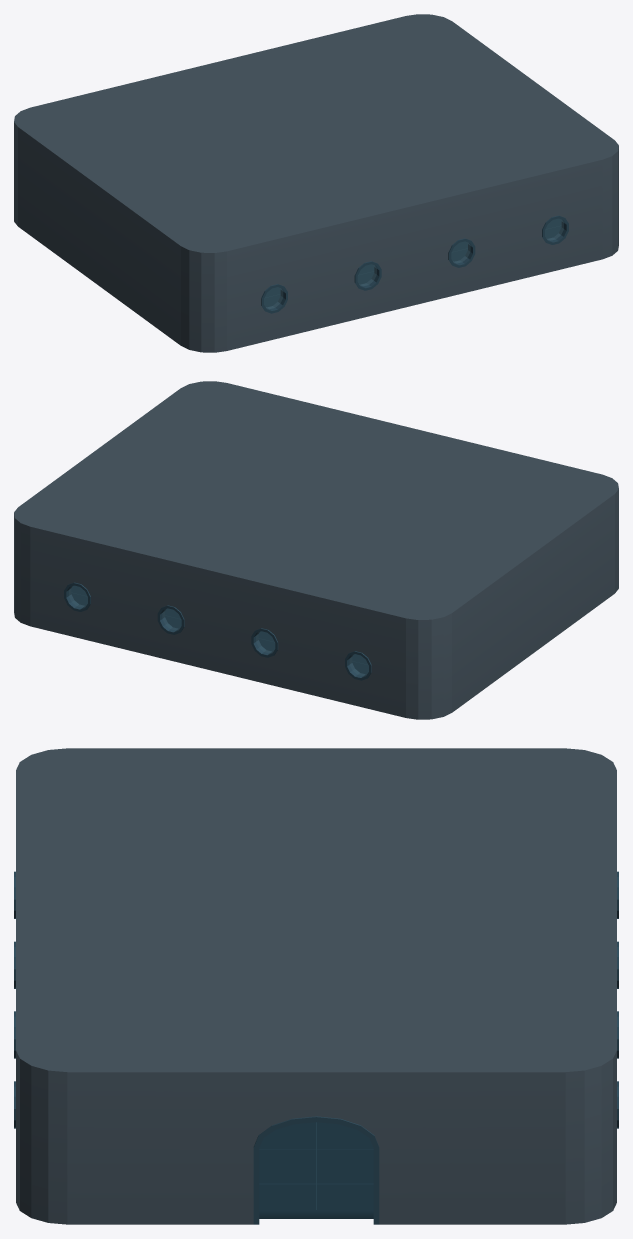
Rendered from sala_treinamento.glb.
The picture shows the model from 3 angles, top to bottom: view 1: azimuth 30°, elevation 25°; view 2: azimuth 150°, elevation 25°; view 3: azimuth 270°, elevation 25°; orthographic projection. The views are drawn at different scales.
Visible parts, largest first — view 1: casco, paredes; view 2: casco, paredes; view 3: casco, paredes.
Boxes of the visible parts, x1,y1,x2,y2 form: casco: (14,14,618,352); paredes: (261,215,568,313); casco: (14,381,618,719); paredes: (64,582,371,680); casco: (16,748,616,1224); paredes: (14,871,618,1224).
Size of the model in its own units: 18.58 by 4.07 by 14.64.
